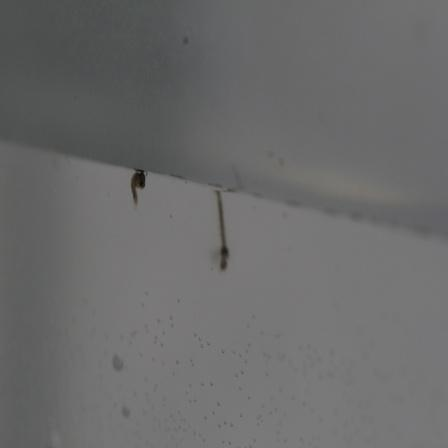Jentik-Nyamuk: (212, 183, 231, 277), (127, 169, 148, 208)
